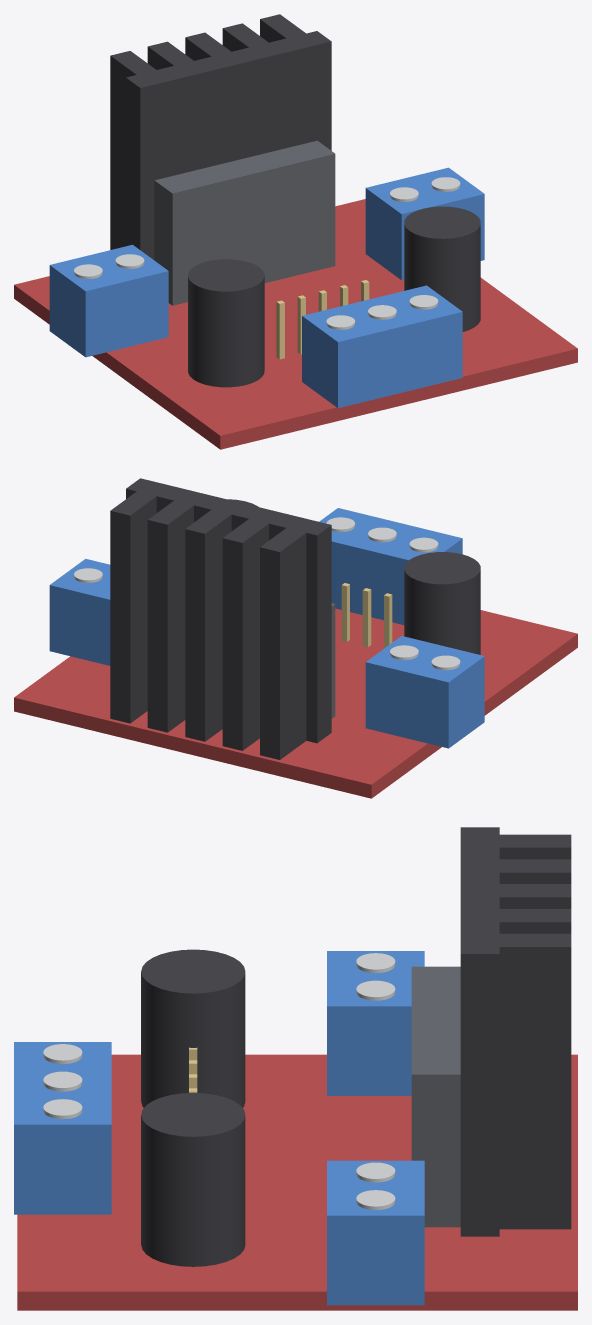
File: h-bridge.glb
3 renders of one model, top to bottom at view 1: azimuth 30°, elevation 25°; view 2: azimuth 150°, elevation 25°; view 3: azimuth 270°, elevation 25°, orthographic. The views are drawn at different scales.
Visible parts, largest first — view 1: terminals, heatsink, pcb, driver, capacitors, pins; view 2: heatsink, pcb, terminals, capacitors, pins, driver; view 3: pcb, heatsink, terminals, capacitors, driver.
Part boxes in pixels (x1,y1,x2,y2): terminals: (49,167,484,408); heatsink: (110,14,331,259); pcb: (14,199,577,449); driver: (154,140,335,305); capacitors: (188,206,480,387); pins: (276,280,369,359); heatsink: (110,478,331,759); pcb: (14,608,577,798); terminals: (49,508,484,748); capacitors: (227,499,480,654); pins: (341,583,392,648); driver: (331,603,335,718); pcb: (17,1054,577,1310); heatsink: (460,827,571,1236); terminals: (14,951,424,1305); capacitors: (141,949,245,1266); driver: (411,966,460,1227).
Size of the model in its own units: 0.048 by 0.0255 by 0.0433.
